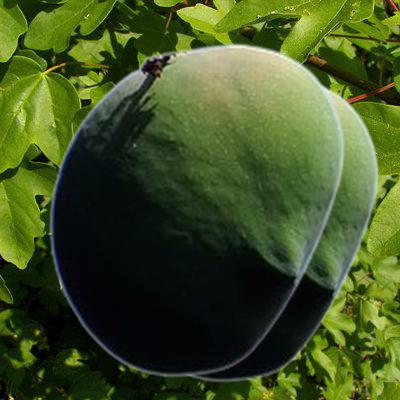green_mango: (48, 42, 345, 376), (182, 80, 379, 381)
